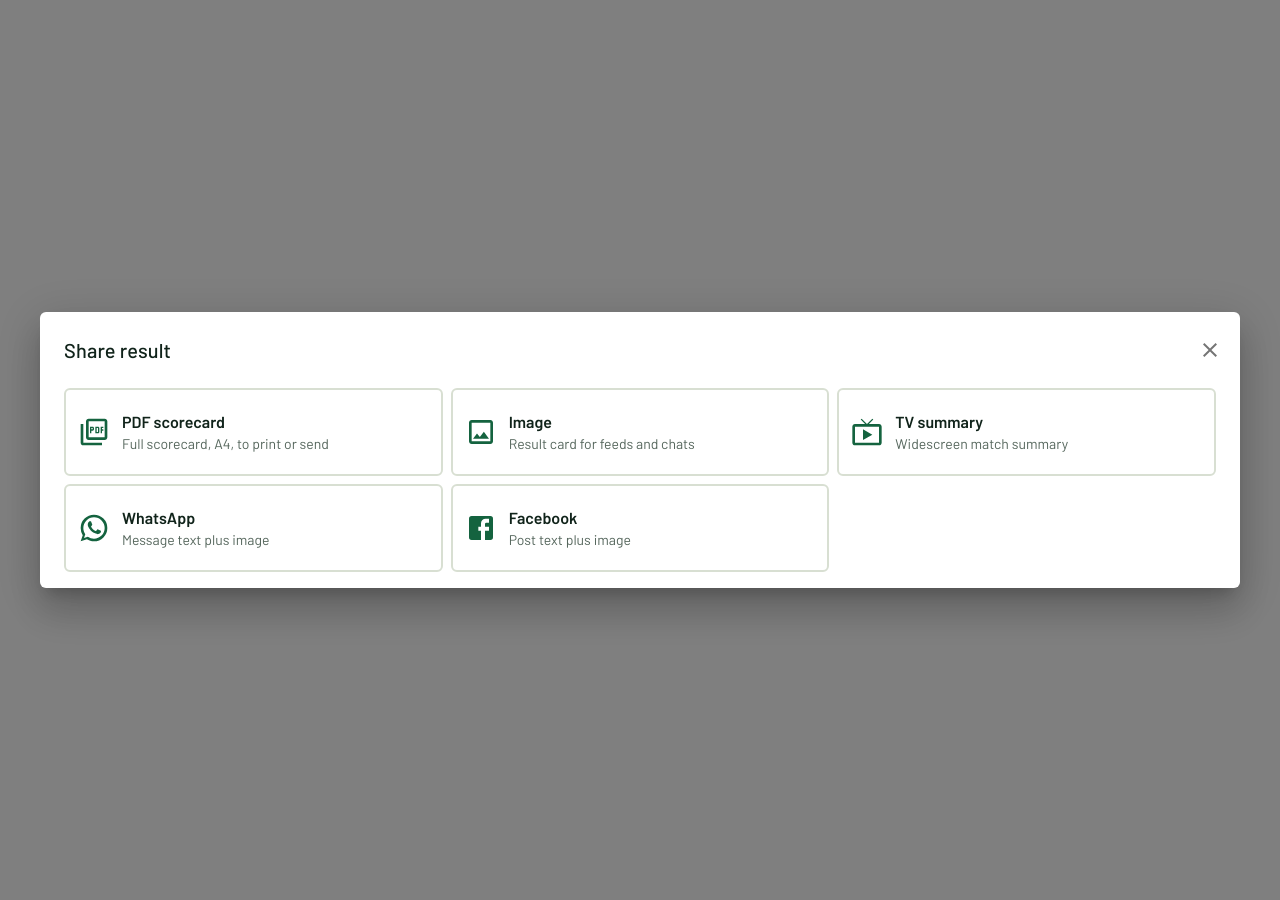
Test: ShareResultDialog › opens the Image and TV screens from their tiles
The width and height of the screenshot is (1280, 900).
Click the radio button labelled "Image Result card for feeds and chats": coordinates (640, 432) [451,388,829,476]
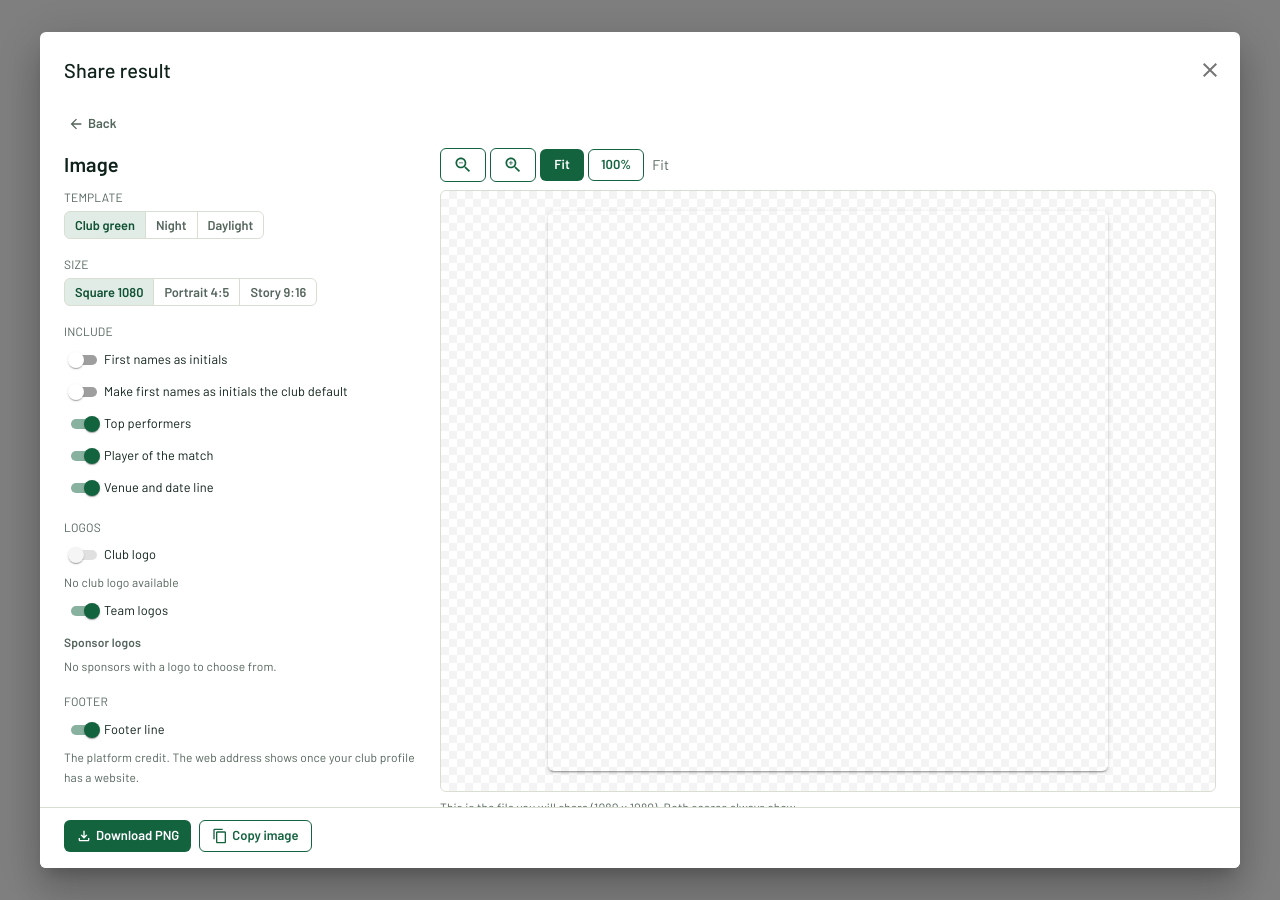
Expected: the picture named "Result card:" is shown, [548,211,1108,771]
Click the button "Back": coordinates (92, 124) [56,108,128,140]
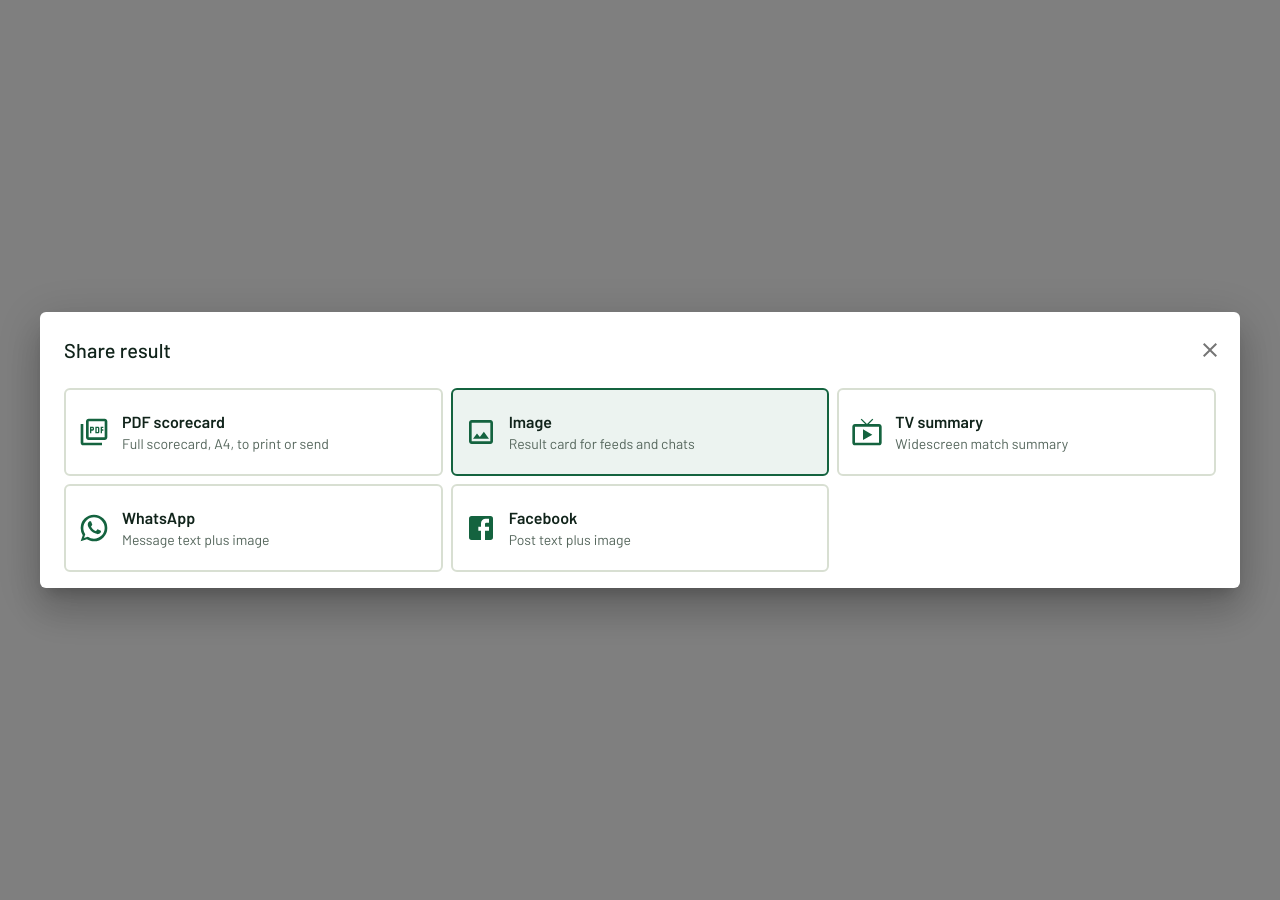
Click the radio button labelled "TV summary Widescreen match summary": coordinates (1027, 432) [837,388,1216,476]
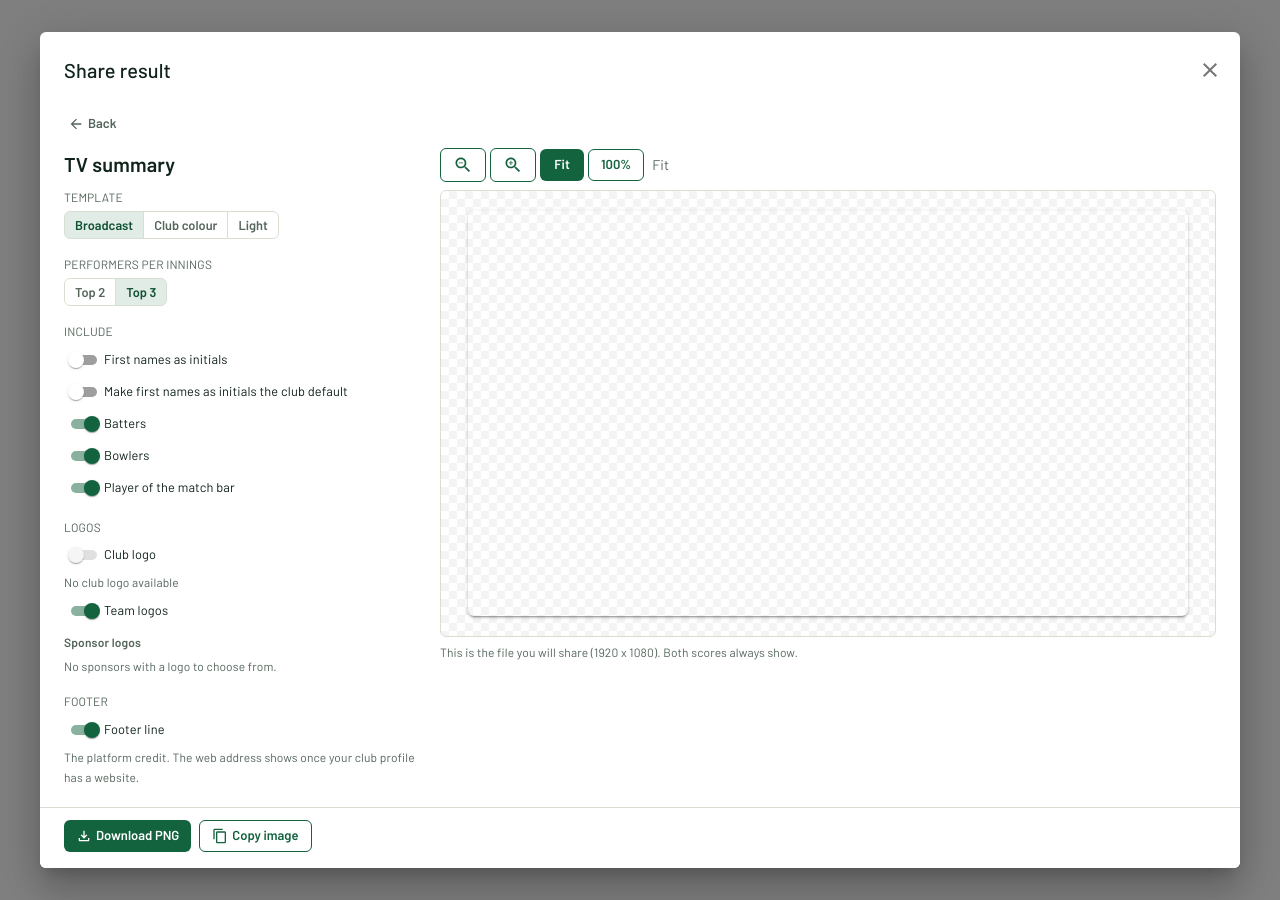
Expected: the picture named "Match summary:" is shown, [468,211,1188,616]
